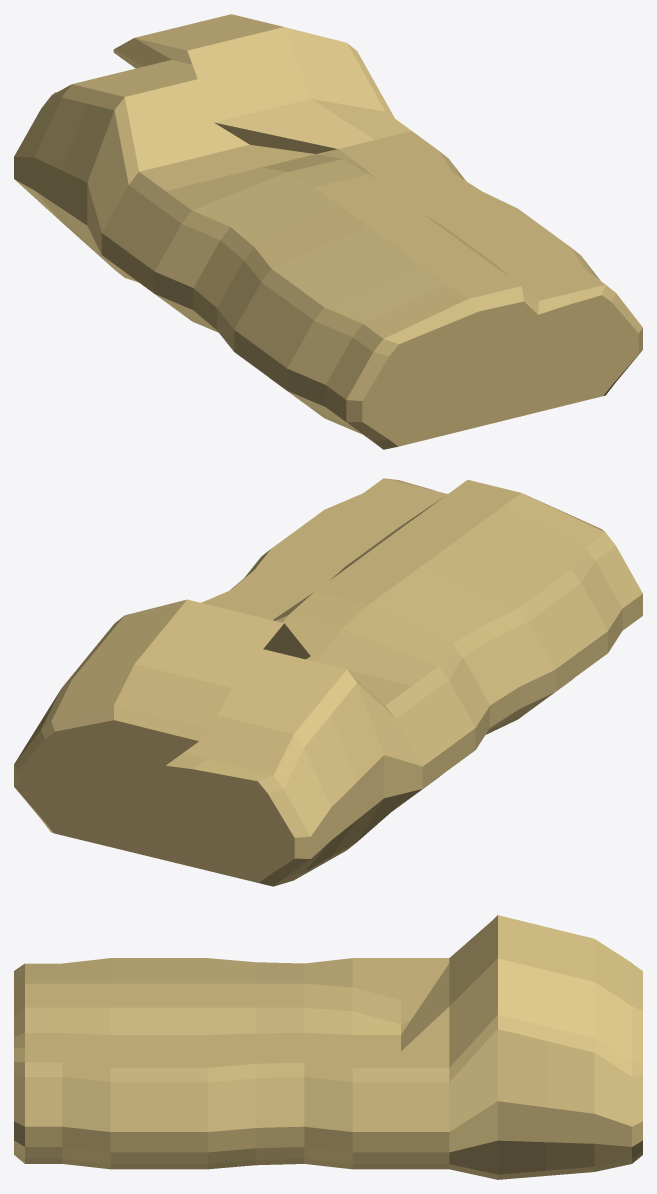
File: tallow_medium_b.glb
3 views of the same model, one above another, from view 1: azimuth 30°, elevation 25°; view 2: azimuth 150°, elevation 25°; view 3: azimuth 270°, elevation 25° (orthographic). The views are drawn at different scales.
Visible parts, largest first — view 1: tallow_medium_b; view 2: tallow_medium_b; view 3: tallow_medium_b.
Part boxes in pixels (bbox=[...]): tallow_medium_b: bbox=[14, 14, 642, 449]; tallow_medium_b: bbox=[14, 478, 642, 886]; tallow_medium_b: bbox=[14, 915, 642, 1179].
Size of the model in its own units: 3.5 by 2.21 by 6.5.
